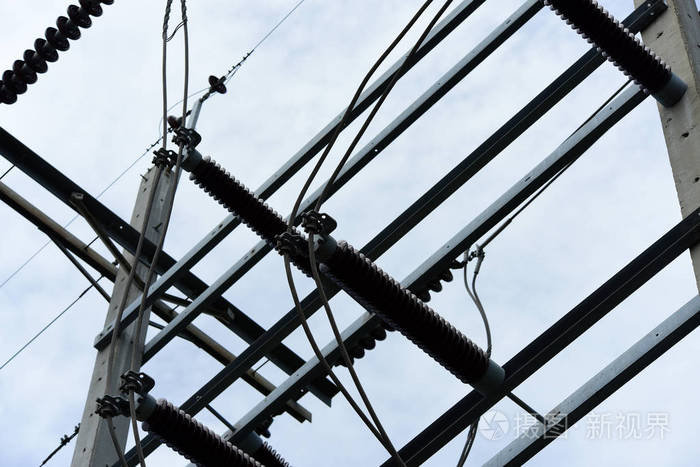insulator: (3, 1, 107, 106)
